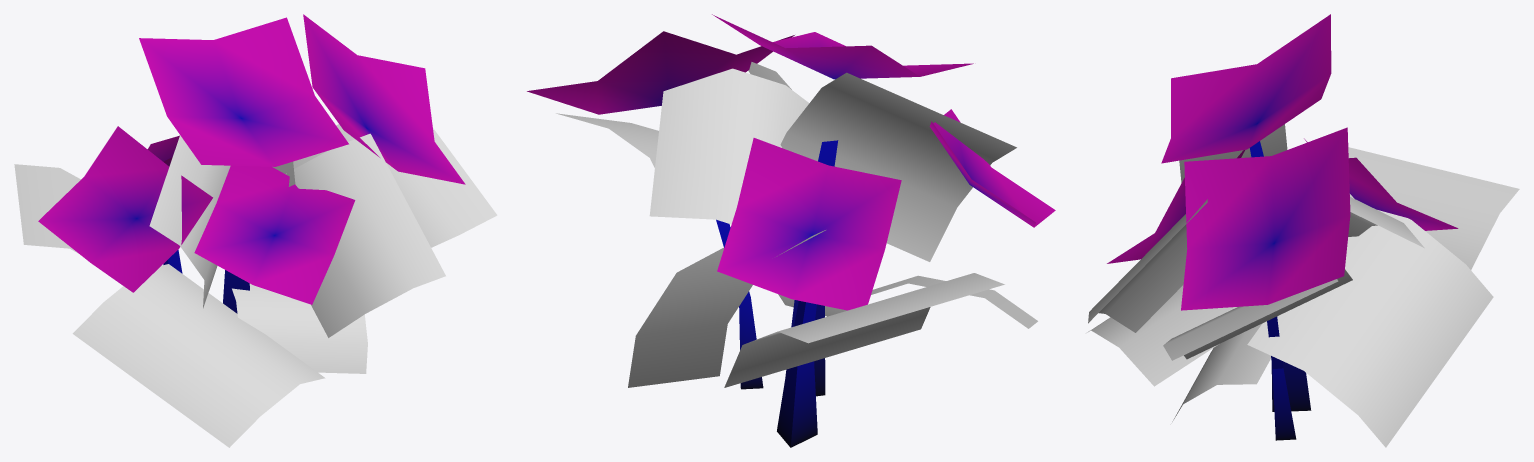
File: Flower_03.fbx
3 renders of one model, left to right at view 1: azimuth 30°, elevation 25°; view 2: azimuth 150°, elevation 25°; view 3: azimuth 270°, elevation 25°, orthographic. The views are drawn at different scales.
Parts seen in each view (by area): view 1: Flower_03; view 2: Flower_03; view 3: Flower_03.
Part boxes in pixels (<box>): Flower_03: <box>14,14,497,447</box>; Flower_03: <box>527,14,1055,447</box>; Flower_03: <box>1087,14,1519,447</box>.
Bounding box in the file's own units: 0.426 × 0.3355 × 0.3688.
